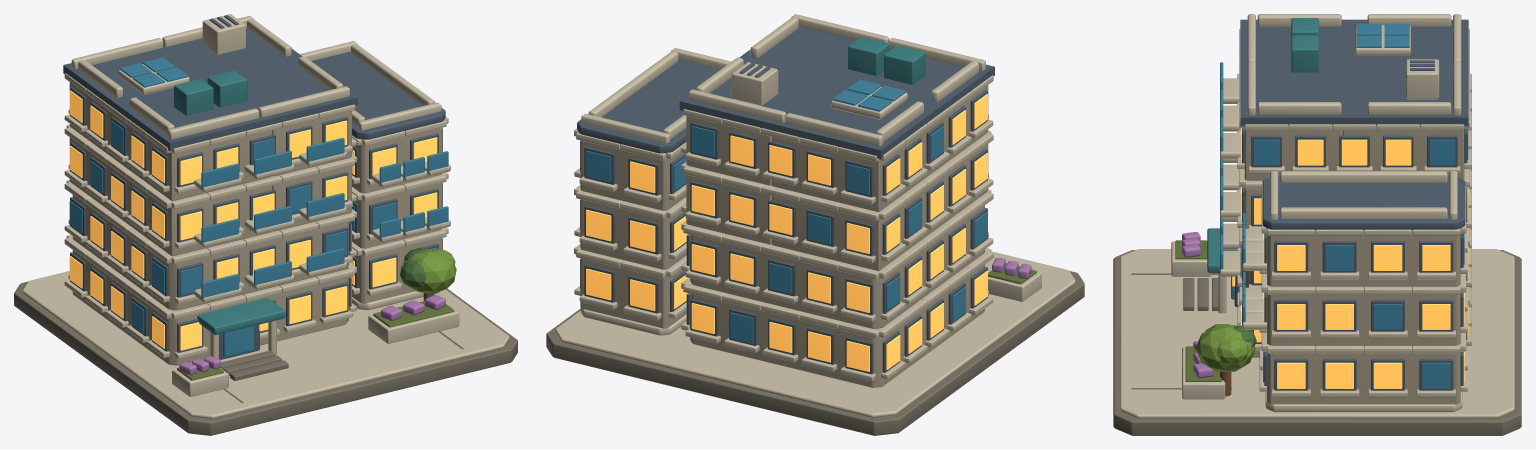
The model's file is civilian-apartments-normal.glb.
3 renders of one model, left to right at view 1: azimuth 30°, elevation 25°; view 2: azimuth 150°, elevation 25°; view 3: azimuth 270°, elevation 25°, orthographic. The views are drawn at different scales.
Visible parts, largest first — view 1: CivilianShell; view 2: CivilianShell; view 3: CivilianShell.
Part boxes in pixels (box(x1,y1,x2,y2)): CivilianShell: box(14, 14, 517, 435); CivilianShell: box(546, 14, 1084, 435); CivilianShell: box(1113, 14, 1521, 435).
Size of the model in its own units: 2.97 by 2.33 by 2.97.
